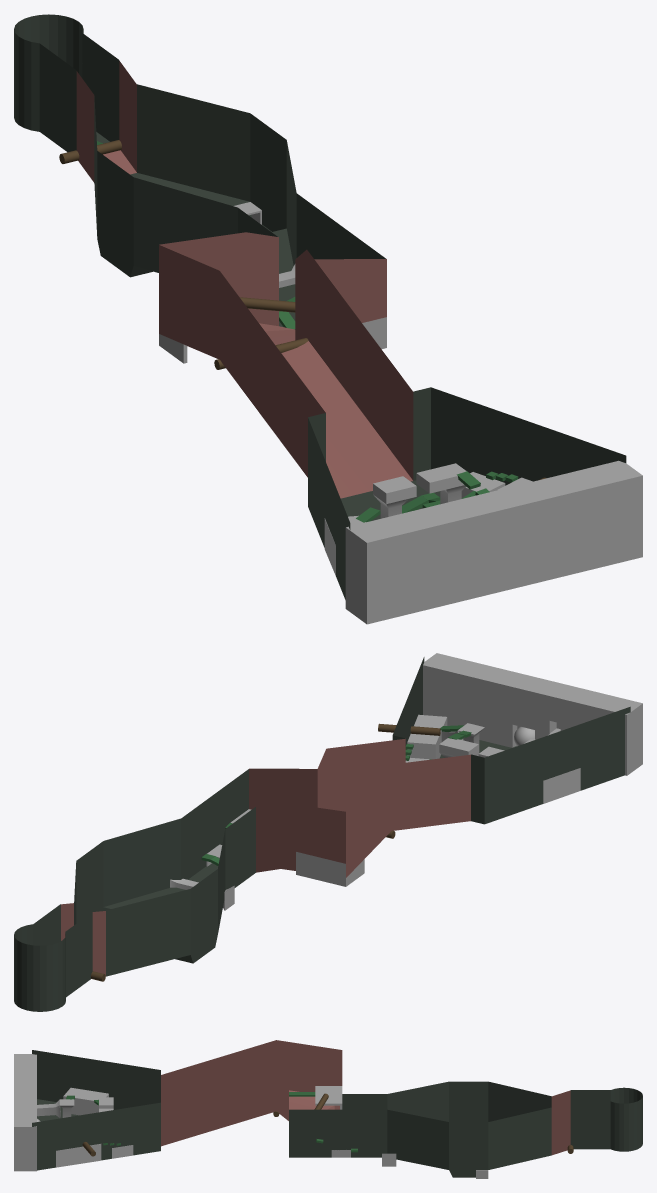
The model's file is JungleLevel_BlockoutTest_V2Coloured.fbx.
The picture shows the model from 3 angles, top to bottom: view 1: azimuth 30°, elevation 25°; view 2: azimuth 150°, elevation 25°; view 3: azimuth 270°, elevation 25°; orthographic projection. The views are drawn at different scales.
Visible parts, largest first — view 1: StartSection, MudRamp2, Temple_Entrance, Final_Section1, MudRamp1, pCube19, pCube20; view 2: StartSection, MudRamp2, Temple_Entrance, Final_Section1, MudRamp1, pCube29, pCube11, pCube1, pCube19; view 3: StartSection, MudRamp2, Final_Section1, Temple_Entrance, MudRamp1, pCube1, pCube11, pCube28, pCube37, pCube10, pCube27.
Part boxes in pixels (bbox=[...]): StartSection: bbox=[14, 14, 385, 329]; MudRamp2: bbox=[159, 232, 413, 498]; Temple_Entrance: bbox=[345, 460, 642, 624]; Final_Section1: bbox=[308, 387, 626, 599]; MudRamp1: bbox=[76, 61, 136, 182]; pCube19: bbox=[416, 463, 466, 493]; pCube20: bbox=[373, 476, 416, 503]; StartSection: bbox=[14, 769, 255, 1011]; MudRamp2: bbox=[249, 738, 470, 877]; Temple_Entrance: bbox=[423, 653, 642, 775]; Final_Section1: bbox=[392, 657, 630, 824]; MudRamp1: bbox=[61, 903, 105, 975]; pCube29: bbox=[296, 852, 347, 886]; pCube11: bbox=[407, 714, 447, 759]; pCube1: bbox=[543, 768, 580, 803]; pCube19: bbox=[439, 738, 478, 756]; StartSection: bbox=[289, 1081, 642, 1177]; MudRamp2: bbox=[161, 1040, 342, 1146]; Final_Section1: bbox=[32, 1050, 160, 1170]; Temple_Entrance: bbox=[14, 1054, 36, 1171]; MudRamp1: bbox=[551, 1090, 570, 1155]; pCube1: bbox=[63, 1087, 108, 1115]; pCube11: bbox=[56, 1144, 101, 1167]; pCube28: bbox=[315, 1086, 342, 1105]; pCube37: bbox=[37, 1100, 60, 1118]; pCube10: bbox=[112, 1145, 133, 1158]; pCube27: bbox=[59, 1099, 74, 1117].
Bounding box in the file's own units: 7144 × 3344 × 22355.
